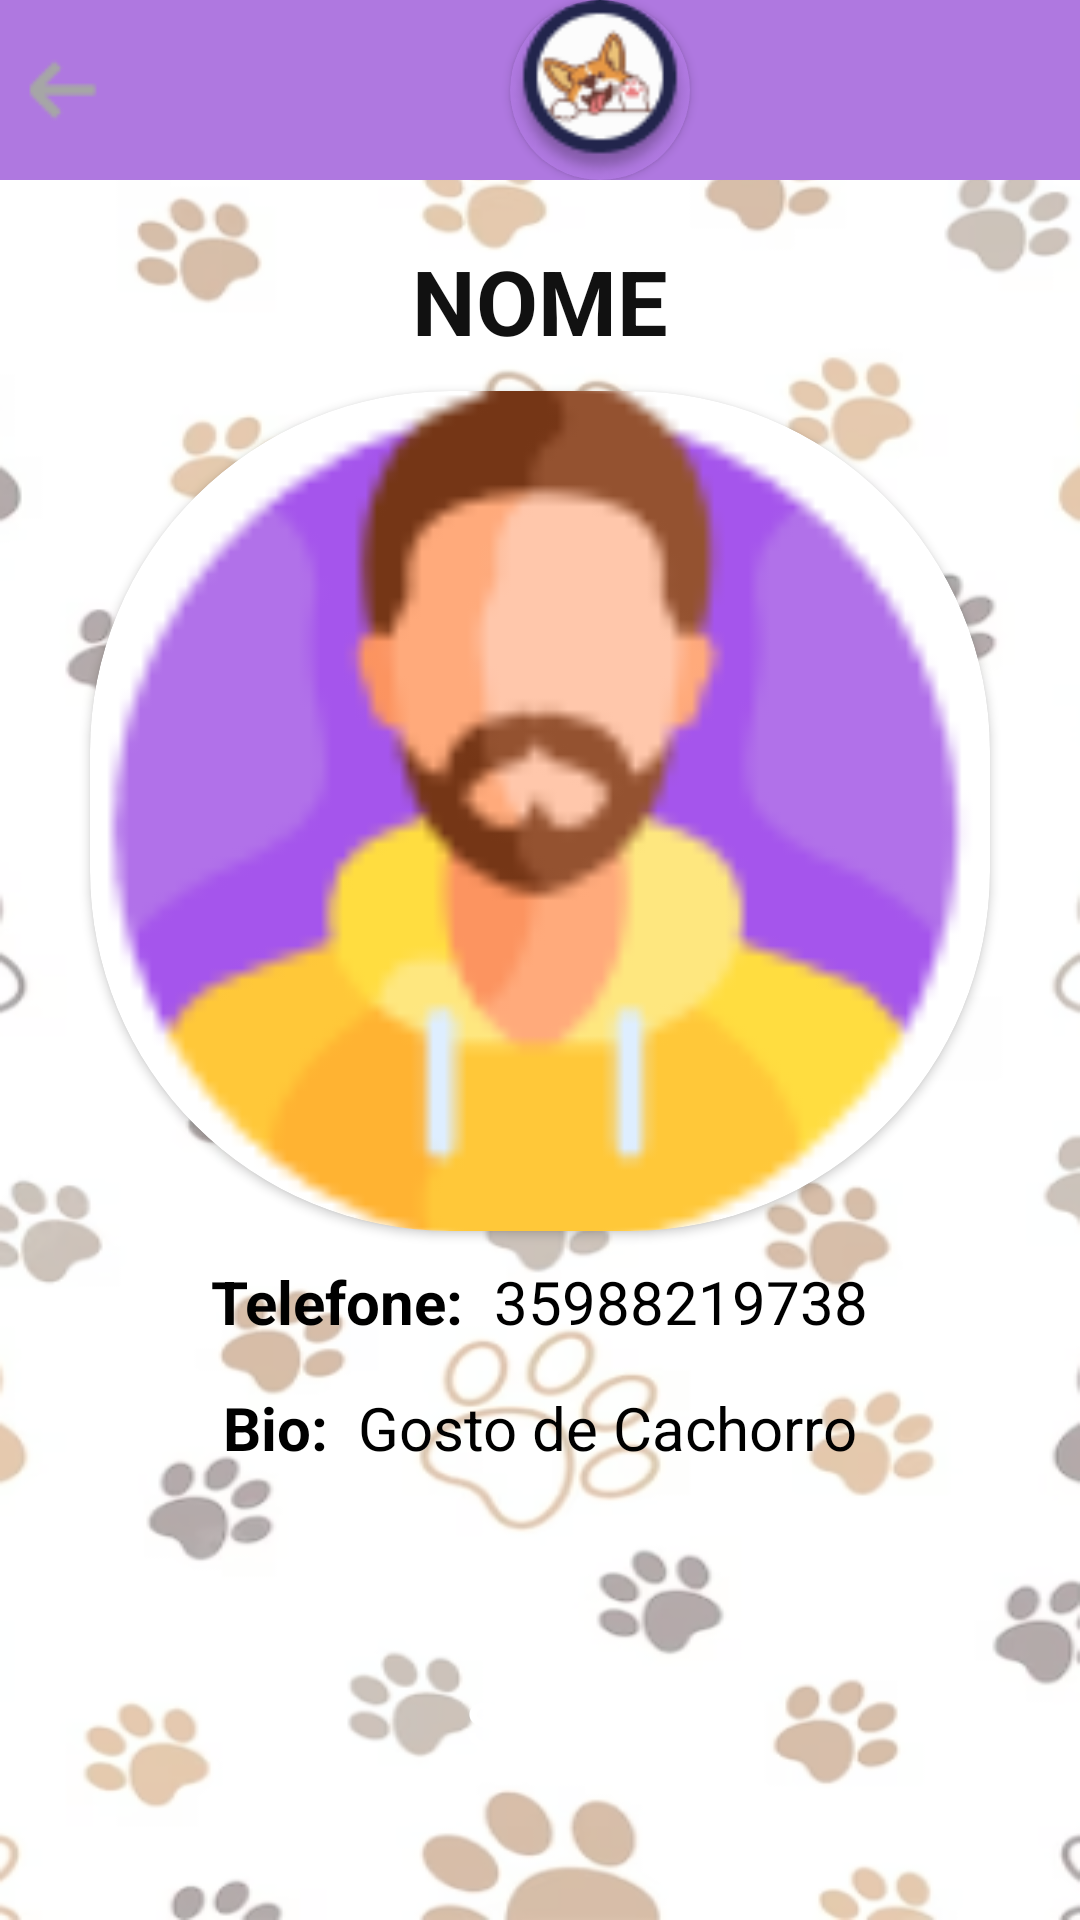

Icon bounding boxes for this 1080w x 1920h phone screenshot, format box=[x1, y1, x2, y2]:
back: box=[30, 63, 96, 118]
